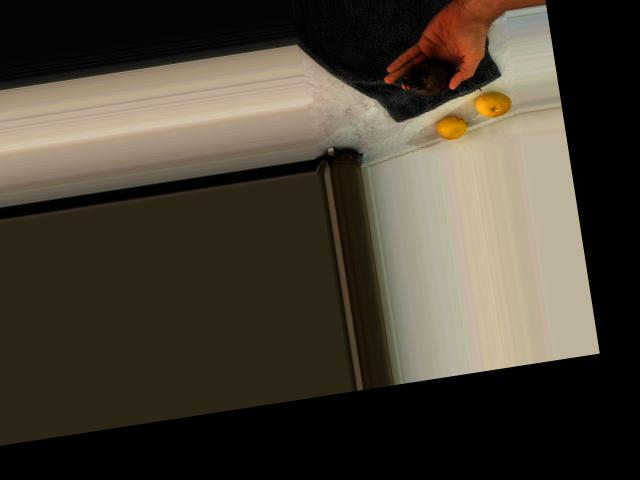beet: (400, 52, 482, 102)
